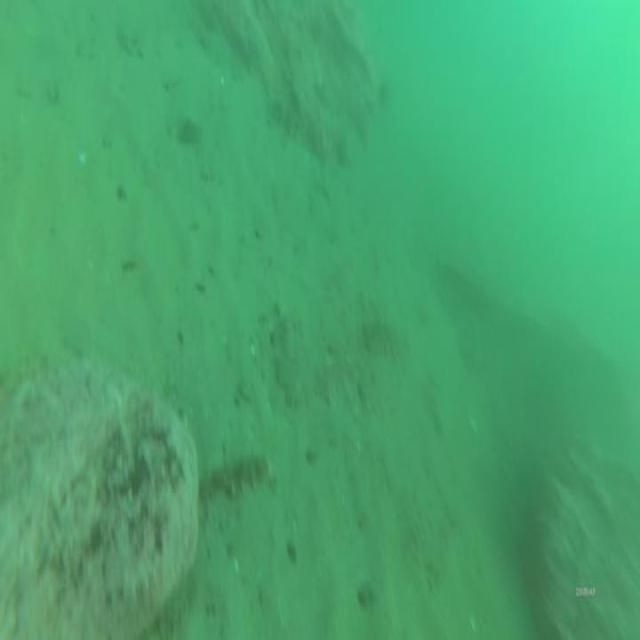holothurian: (200, 446, 266, 504), (359, 314, 406, 354)
